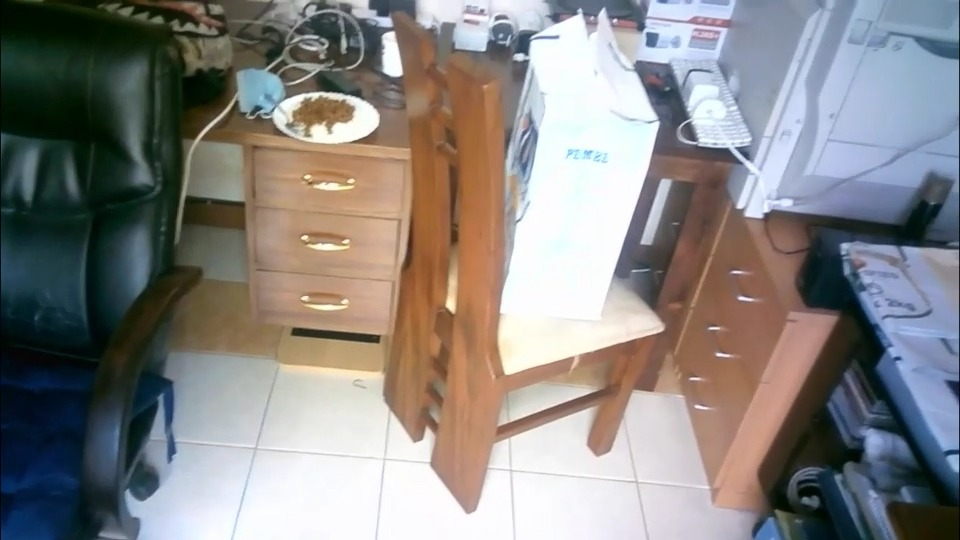wheat_flour_blue_label: (507, 17, 659, 330)
